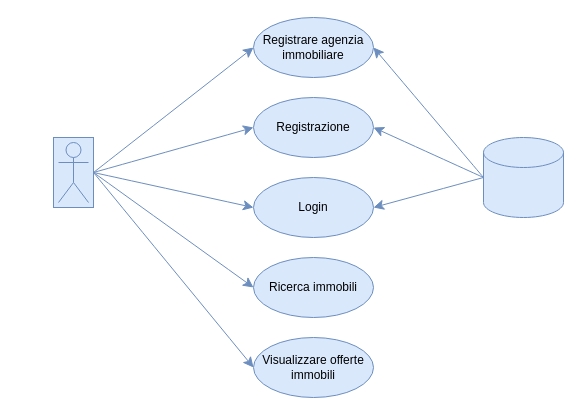
This 581x415 diagram has some shape labels left out. The box of each missing label's shape, as (x1, y1, x2, y2) in pixels:
Servizio di Registrazione: (482, 136, 564, 218)
Utente non registrato: (58, 142, 88, 202)
